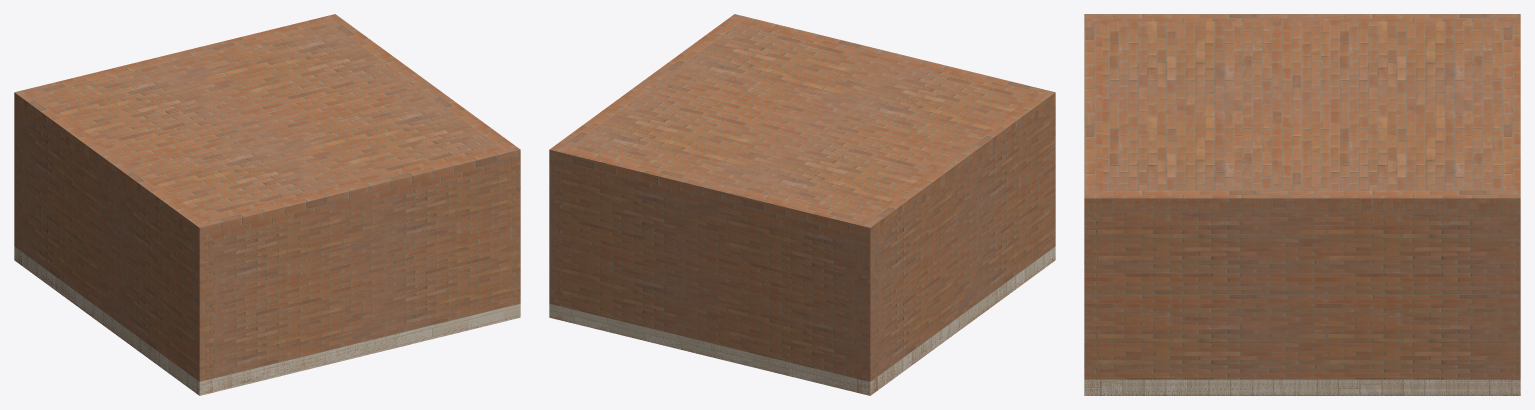
The model's file is Zona_Seleccion.fbx.
3 renders of one model, left to right at view 1: azimuth 30°, elevation 25°; view 2: azimuth 150°, elevation 25°; view 3: azimuth 270°, elevation 25°, orthographic. The views are drawn at different scales.
Visible parts, largest first — view 1: Techo, Pared3, Pared1, Floor, Pared2, Pared4; view 2: Techo, Pared4, Pared1, Floor, Pared2, Pared3; view 3: Pared2, Techo, Floor, Pared3, Pared4, Pared1.
Part boxes in pixels (box(x1,y1,x2,y2)): Techo: box(14, 23, 520, 241); Pared3: box(192, 147, 520, 394); Pared1: box(14, 89, 212, 394); Floor: box(14, 246, 520, 395); Pared2: box(322, 14, 520, 319); Pared4: box(14, 15, 339, 265); Techo: box(549, 23, 1055, 241); Pared4: box(549, 147, 877, 395); Pared1: box(857, 89, 1055, 395); Floor: box(549, 246, 1055, 395); Pared2: box(549, 14, 747, 320); Pared3: box(728, 14, 1055, 263); Pared2: box(1084, 190, 1520, 395); Techo: box(1084, 21, 1520, 214); Floor: box(1084, 379, 1520, 395); Pared3: box(1084, 14, 1102, 395); Pared4: box(1502, 14, 1520, 395); Pared1: box(1084, 14, 1520, 21).
Bounding box in the file's own units: 24 × 12 × 24.
